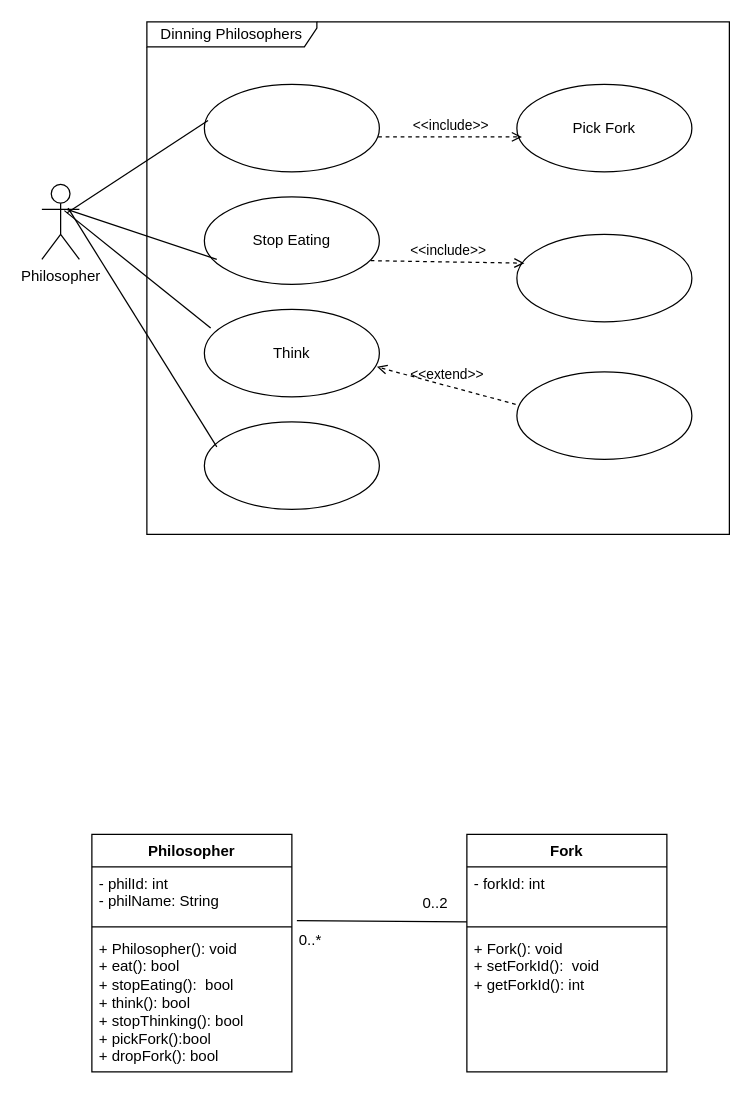
Some shapes in this 751 by 1098 pixel diagram are drawn without their labels. Each missing label, with the box of its shape:
Drop Fork: (516, 233, 692, 322)
Eat: (203, 83, 379, 172)
Sleep: (516, 371, 692, 459)
Stop Thinking: (203, 421, 379, 509)
